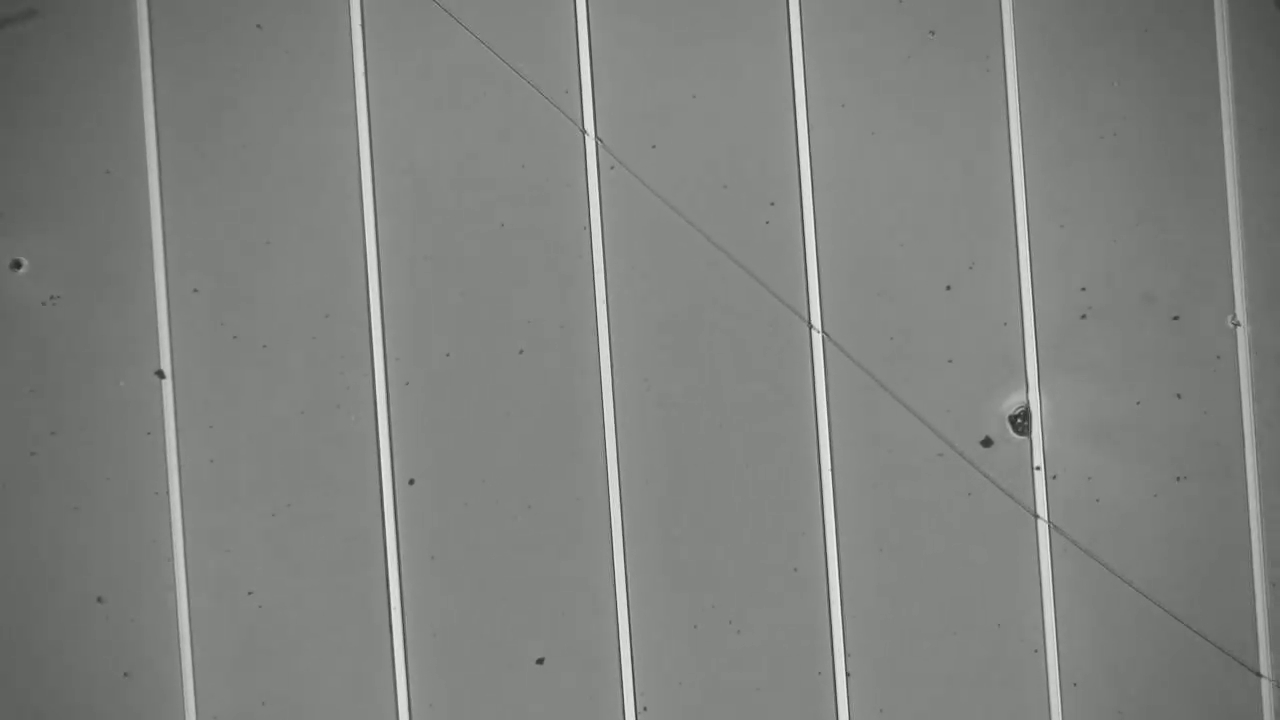scratch: (435, 10, 1269, 680)
stains_enbedded: (998, 393, 1051, 451), (149, 359, 182, 386)
